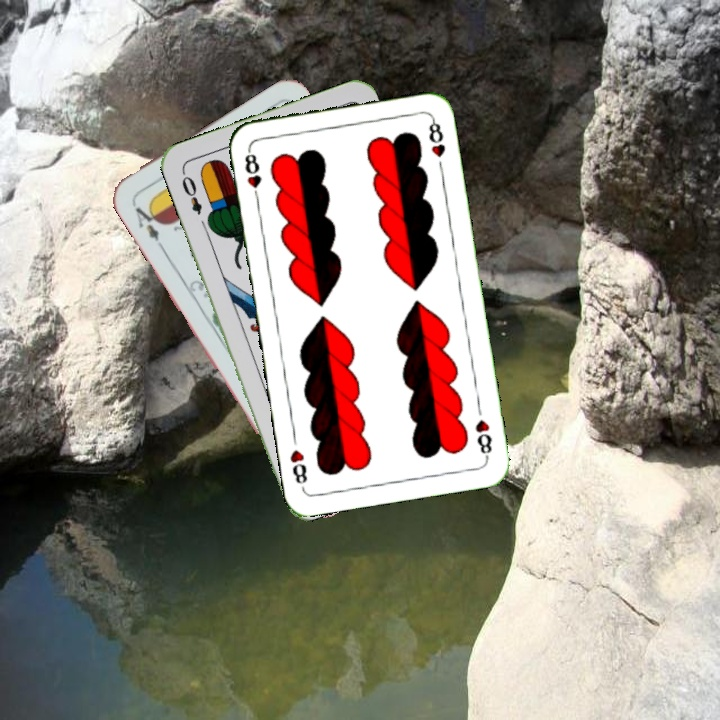EA: (131, 199, 167, 250)
EO: (177, 167, 205, 217)
H8: (240, 145, 264, 204), (471, 415, 495, 461)
